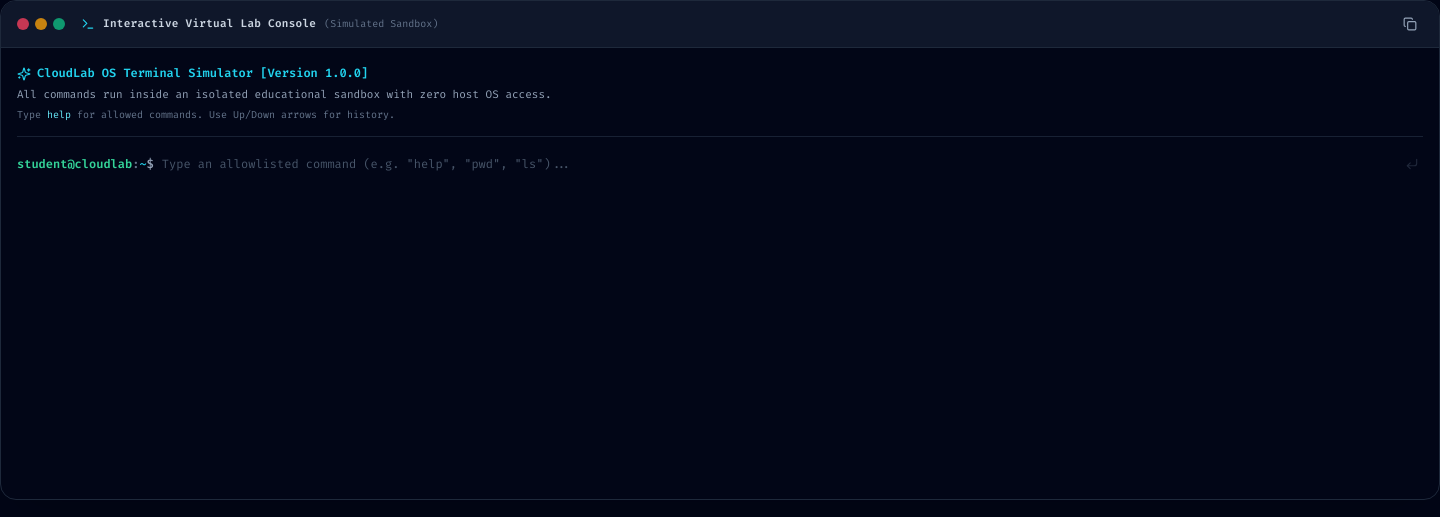
Scenario: Terminal Component › navigates command history with ArrowUp and ArrowDown keys
Earlier steps of the test are not shown.
Step 1. Type "uname" into the field → (777, 164), box x1=162 y1=156 x2=1393 y2=172
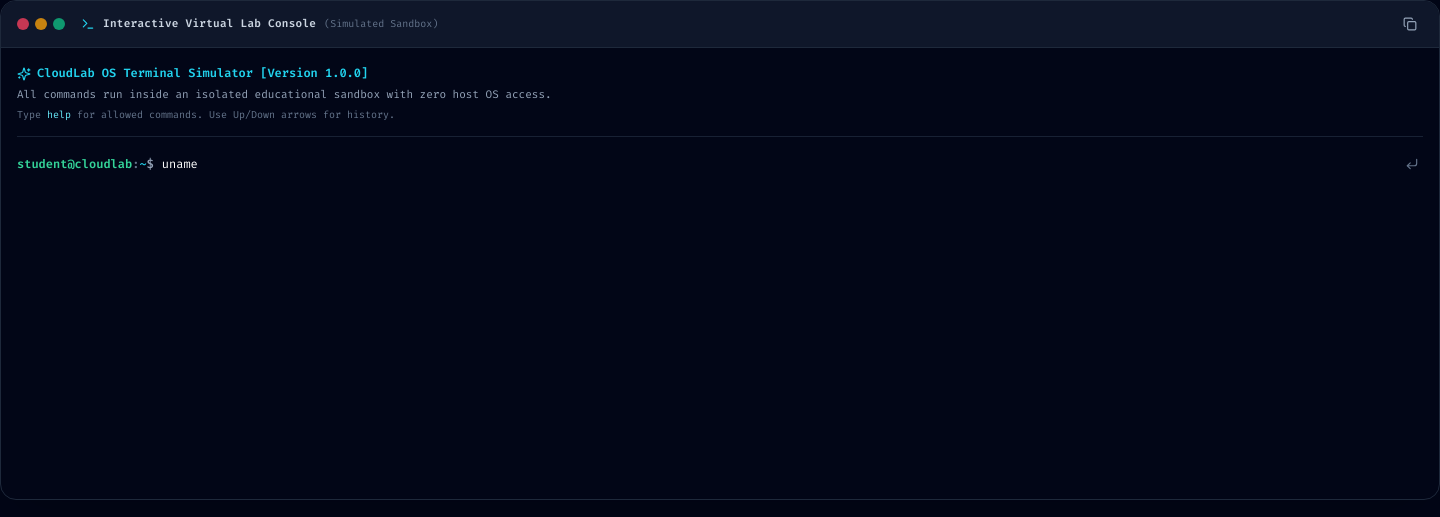
Step 2. Submit the form, box x1=17 y1=149 x2=1423 y2=175
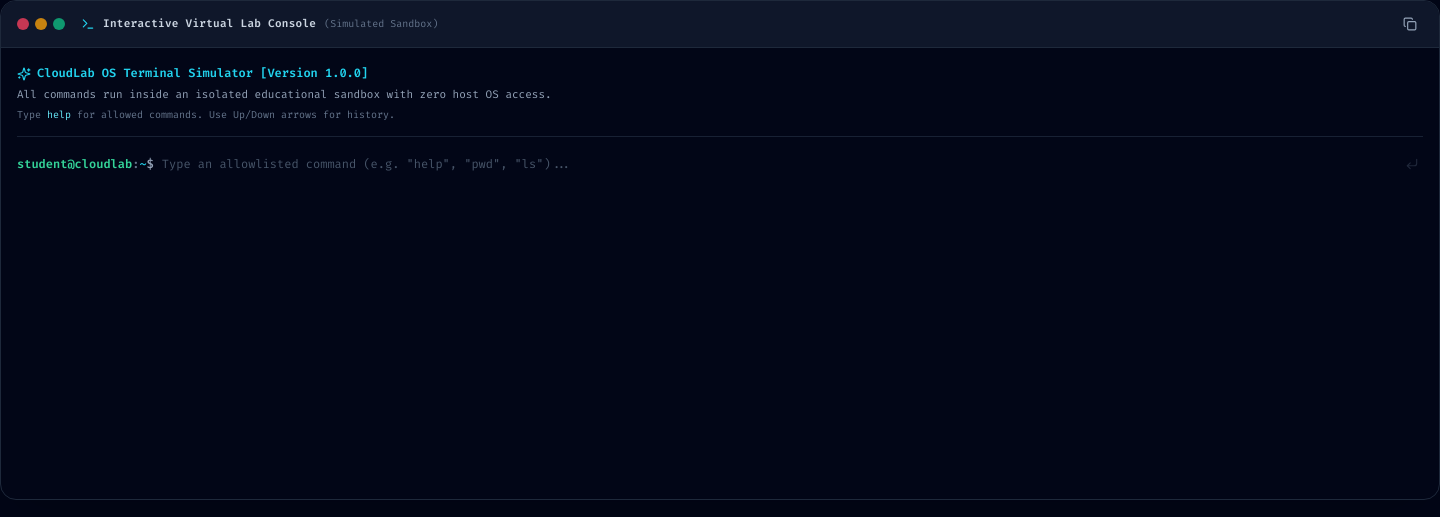
Step 3. Press ArrowUp in the field, box x1=162 y1=156 x2=1393 y2=172
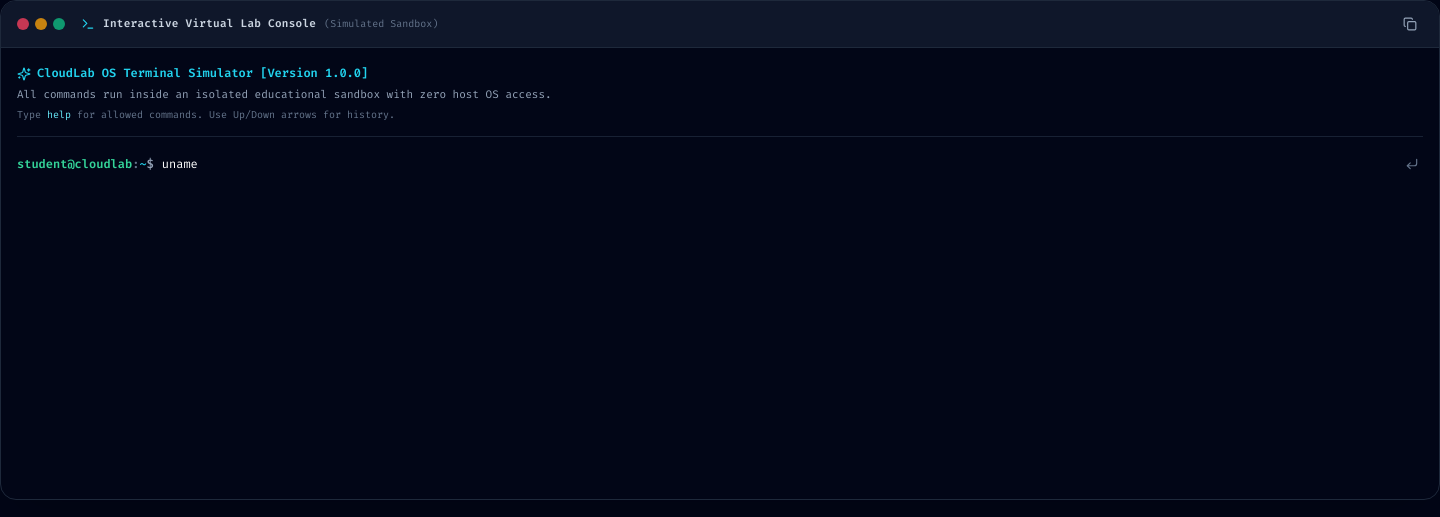
Step 4. Press ArrowUp in the field, box x1=162 y1=156 x2=1393 y2=172
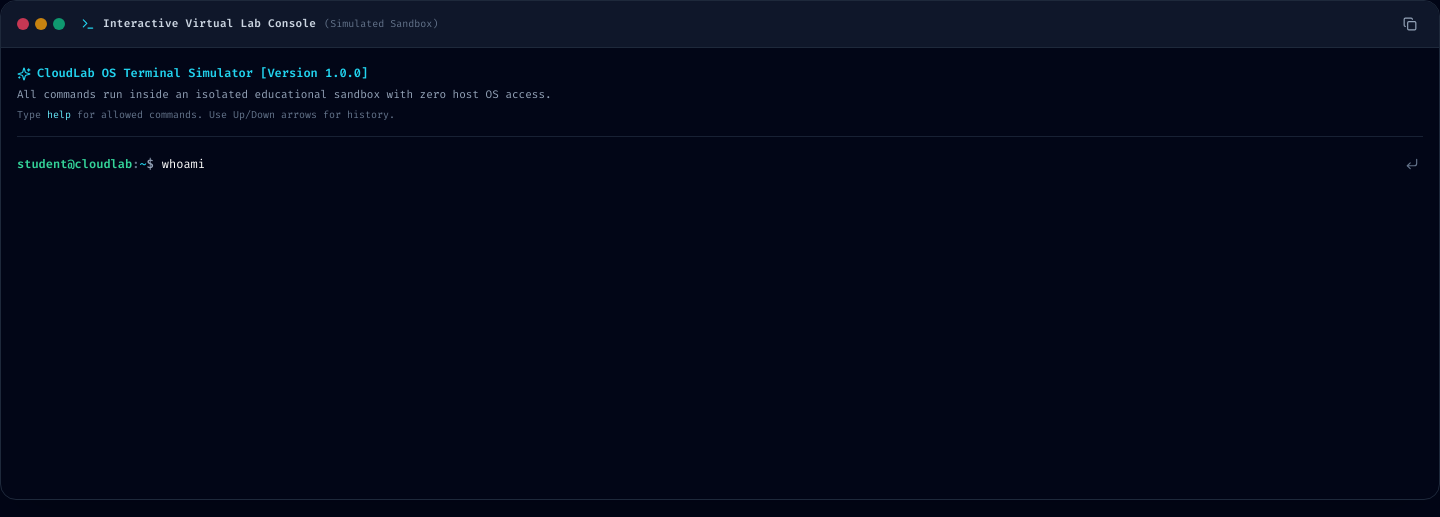
Step 5. Press ArrowDown in the field, box x1=162 y1=156 x2=1393 y2=172
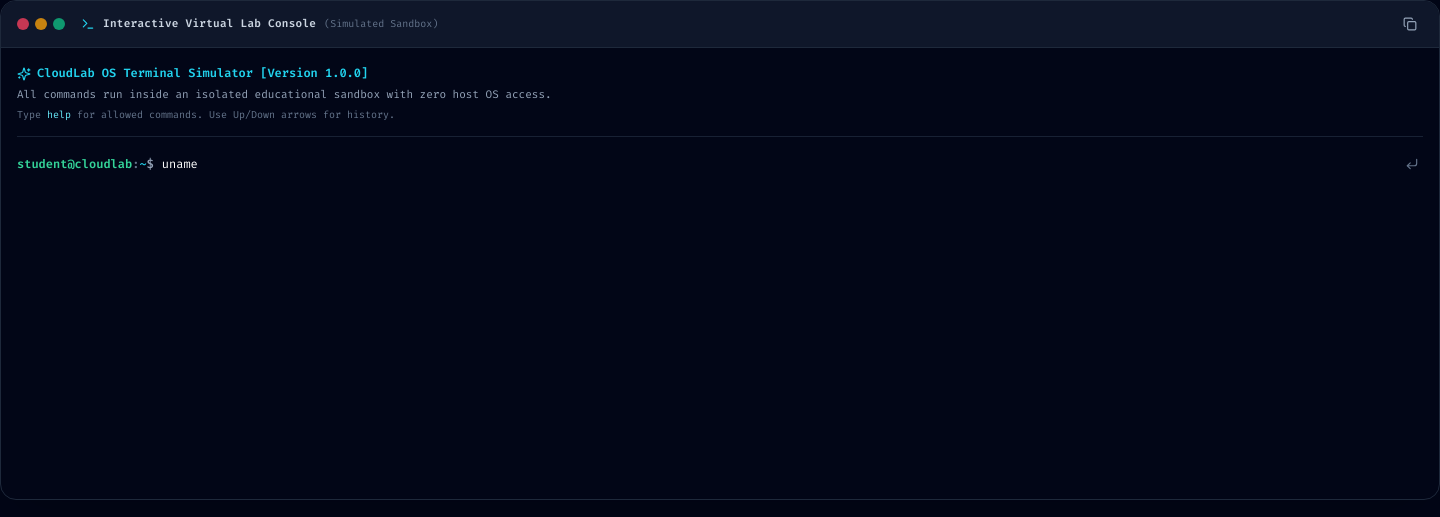
Step 6. Press ArrowDown in the field, box x1=162 y1=156 x2=1393 y2=172
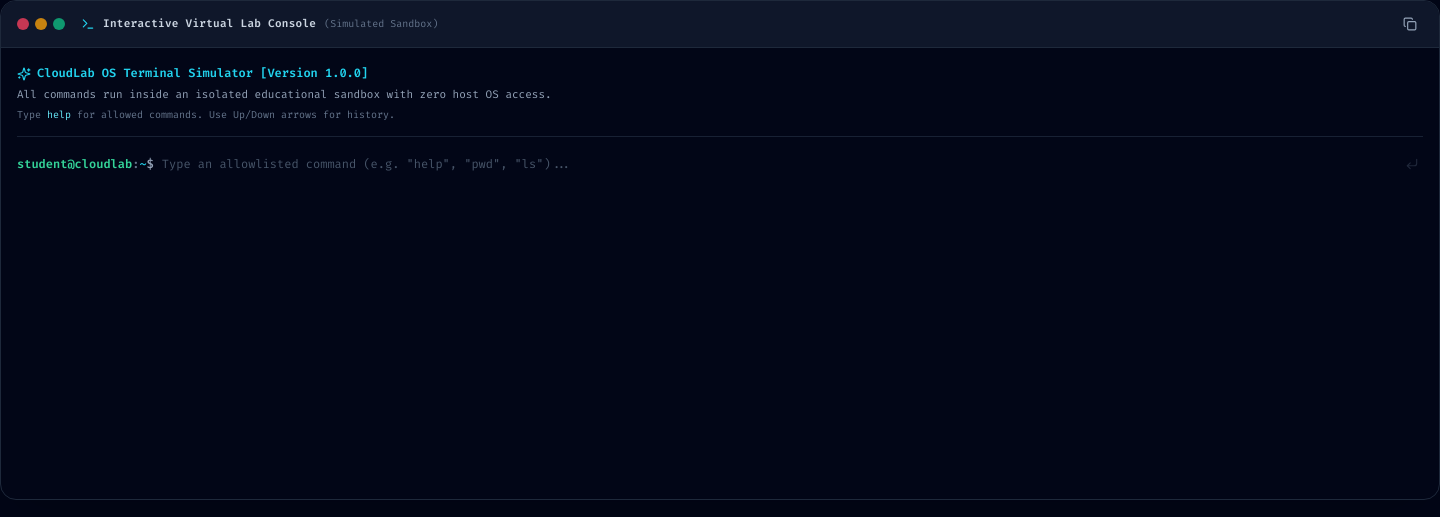
Now the field is empty, box x1=162 y1=156 x2=1393 y2=172
